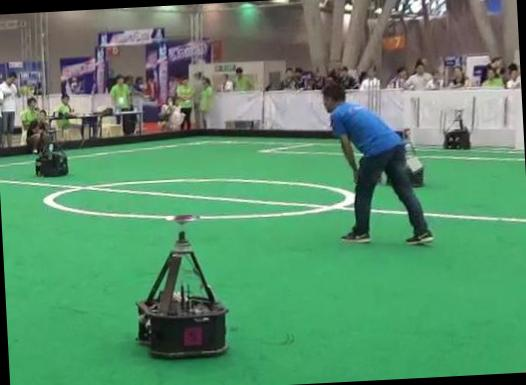goal: (513, 89, 523, 147)
person: (322, 84, 433, 244)
robot: (137, 230, 226, 356), (396, 128, 423, 186), (35, 129, 68, 174), (443, 110, 469, 147)
